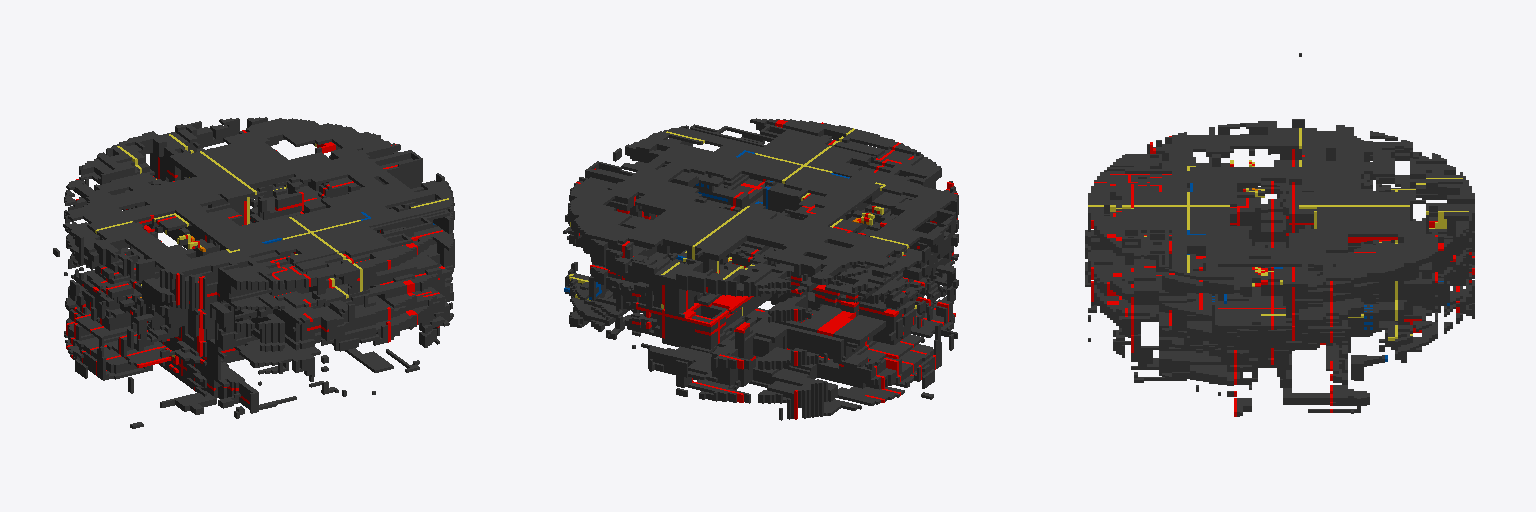
3 views of the same model, side by side, from view 1: azimuth 30°, elevation 25°; view 2: azimuth 150°, elevation 25°; view 3: azimuth 270°, elevation 25° (orthographic).
Parts seen in each view (by area): view 1: taiji-1; view 2: taiji-1; view 3: taiji-1.
Part boxes in pixels (x1,y1,x2,y2): taiji-1: (53,117,454,428); taiji-1: (563,118,958,420); taiji-1: (1085,53,1474,416).
Size of the model in its own units: 126 by 87 by 126.
Materials: 1 (1 with a texture image).